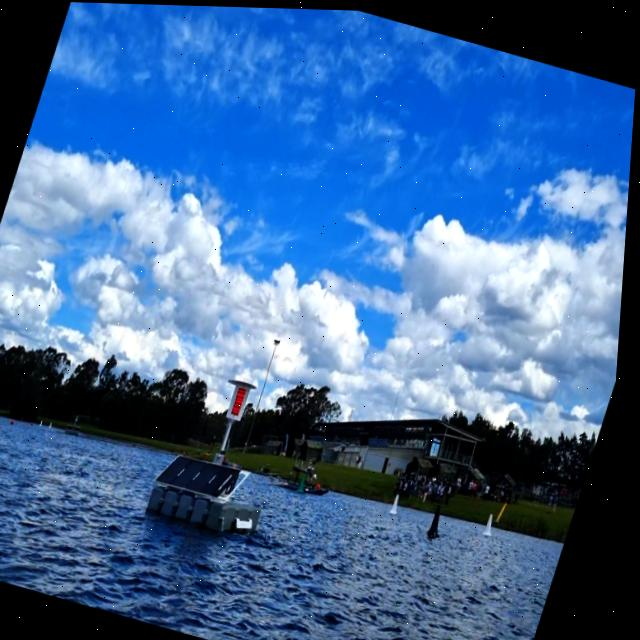led: (232, 383, 256, 418)
